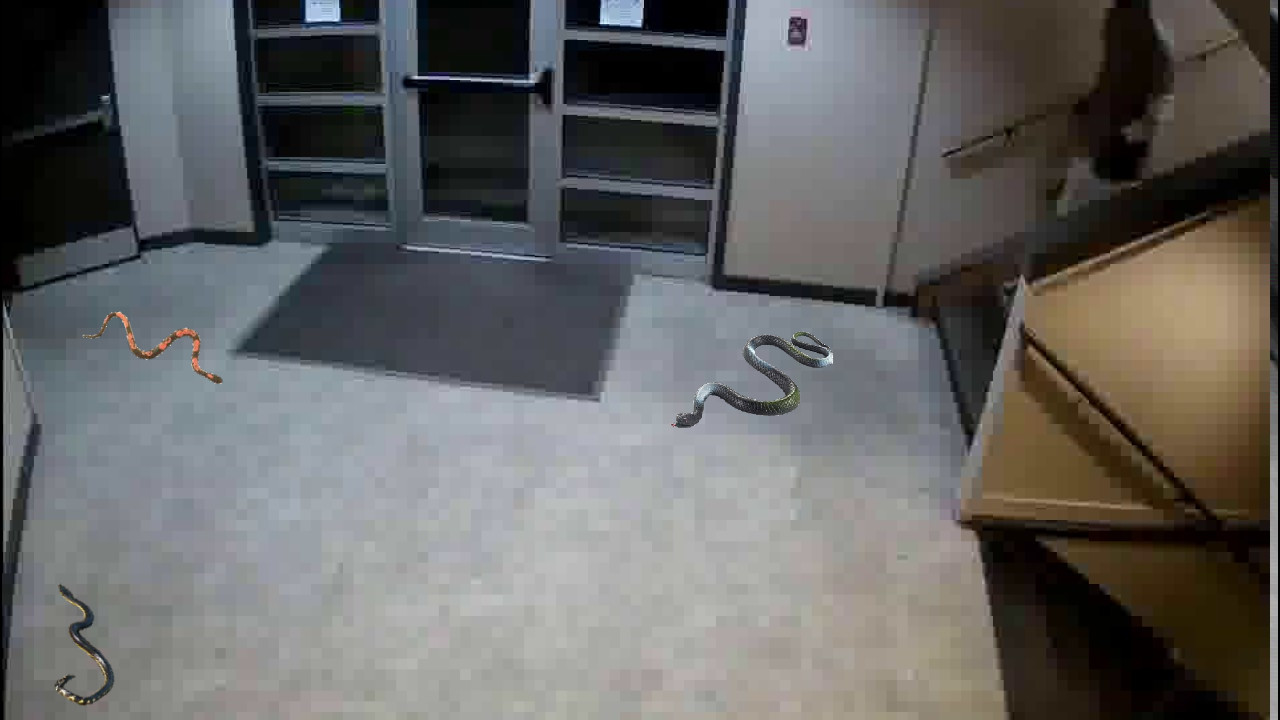snake: (670, 329, 835, 428), (77, 307, 225, 387), (51, 584, 117, 705)
